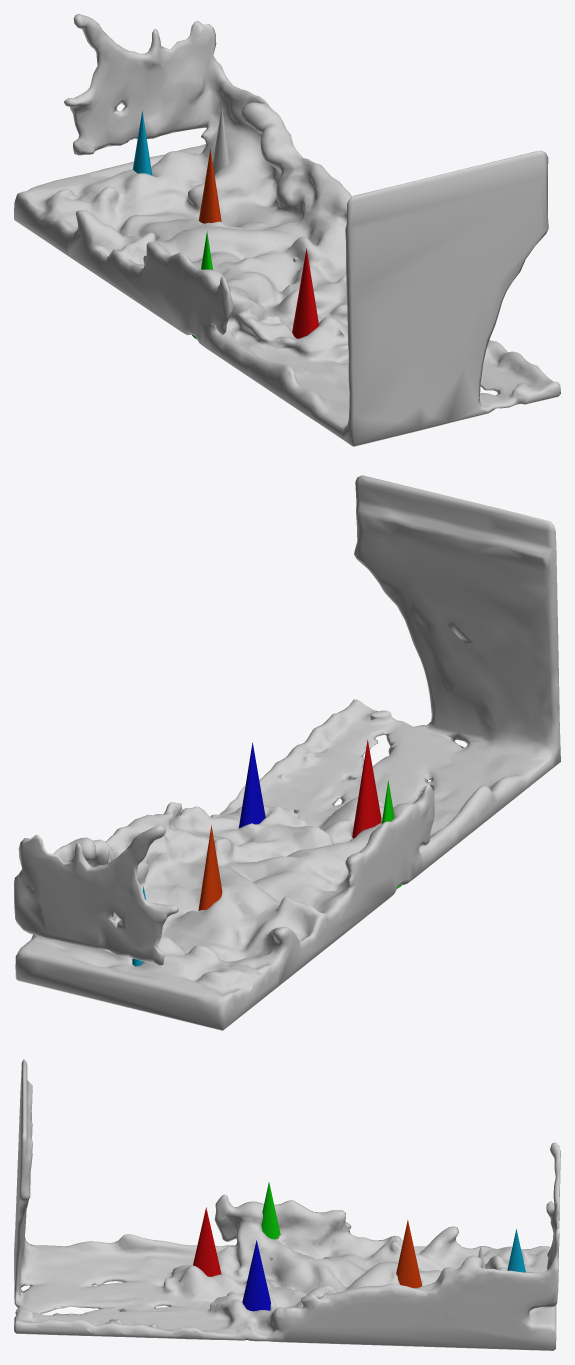
3 renders of one model, top to bottom at view 1: azimuth 30°, elevation 25°; view 2: azimuth 150°, elevation 25°; view 3: azimuth 270°, elevation 25°, orthographic. The views are drawn at different scales.
Parts seen in each view (by area): view 1: Liquid_Domain, 円錐.001, 円錐.004, 円錐.005, 円錐; view 2: Liquid_Domain, 円錐.001, 円錐.002, 円錐.004; view 3: Liquid_Domain, 円錐.002, 円錐.001, 円錐.004, 円錐.003, 円錐.005.
Boxes of the visible parts, <box> form: Liquid_Domain: <box>14,14,560,446</box>; 円錐.001: <box>292,248,318,338</box>; 円錐.004: <box>199,149,221,223</box>; 円錐.005: <box>132,110,152,175</box>; 円錐: <box>212,107,229,174</box>; Liquid_Domain: <box>14,475,560,1030</box>; 円錐.001: <box>352,740,381,838</box>; 円錐.002: <box>238,742,265,828</box>; 円錐.004: <box>198,825,222,910</box>; Liquid_Domain: <box>14,1059,560,1350</box>; 円錐.002: <box>242,1240,270,1311</box>; 円錐.001: <box>193,1207,221,1276</box>; 円錐.004: <box>396,1220,421,1288</box>; 円錐.003: <box>261,1182,280,1239</box>; 円錐.005: <box>507,1228,525,1272</box>.
Bounding box in the file's own units: 129 × 158 × 364.
